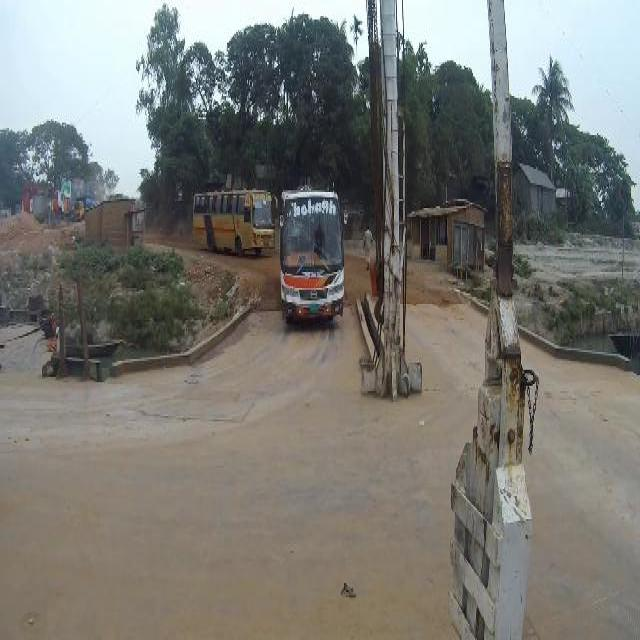vehicle: (281, 185, 345, 322), (192, 190, 277, 254), (74, 196, 93, 222)
